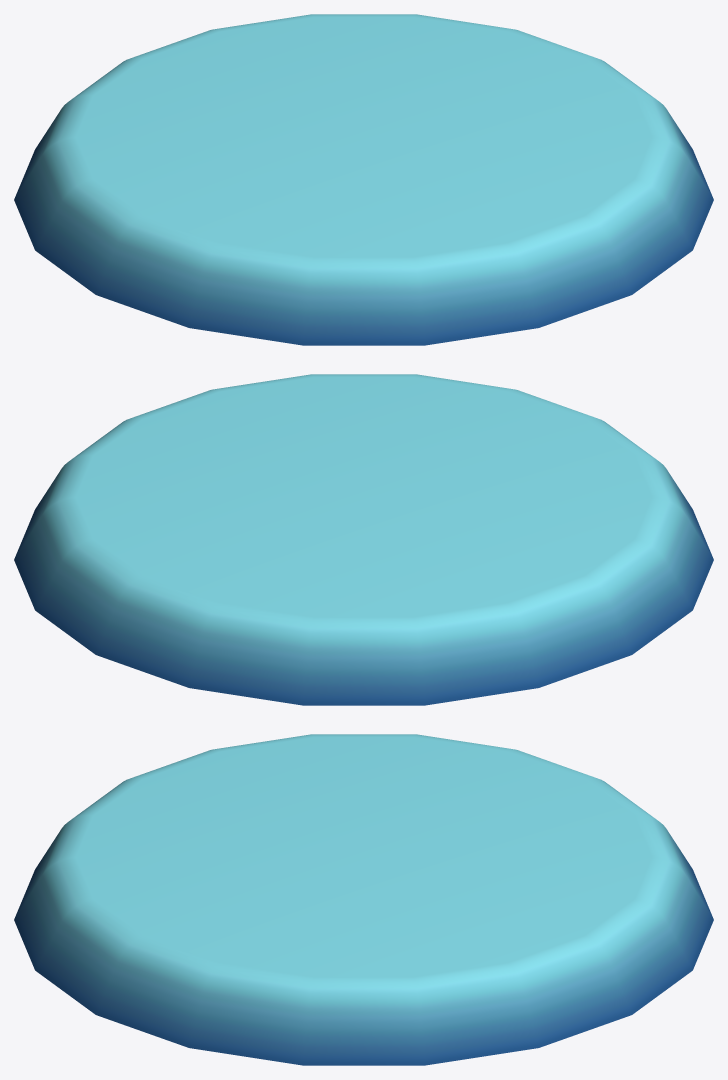
File: me_stand.fbx
The picture shows the model from 3 angles, top to bottom: view 1: azimuth 30°, elevation 25°; view 2: azimuth 150°, elevation 25°; view 3: azimuth 270°, elevation 25°; orthographic projection.
Parts seen in each view (by area): view 1: me; view 2: me; view 3: me.
Boxes of the visible parts, box(x1,y1,x2,y2) form: me: box(14, 14, 713, 345); me: box(14, 374, 713, 705); me: box(14, 734, 713, 1065).
Size of the model in its own units: 1.97 by 0.1976 by 2.
